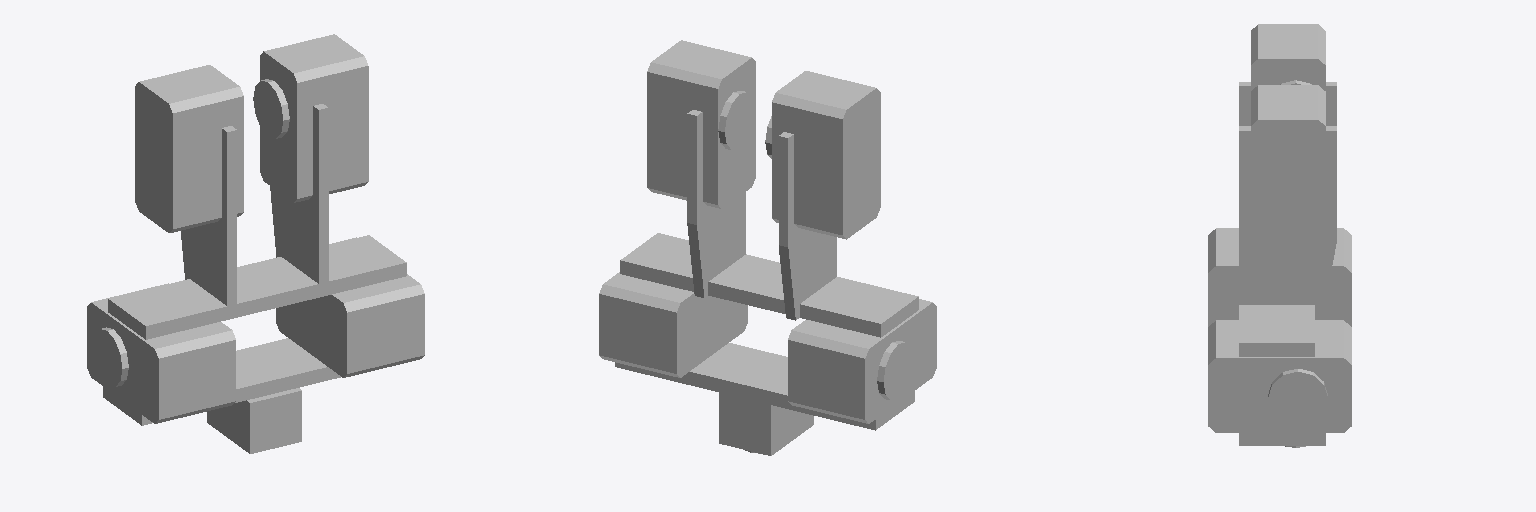
File: Body2.obj
3 renders of one model, left to right at view 1: azimuth 30°, elevation 25°; view 2: azimuth 150°, elevation 25°; view 3: azimuth 270°, elevation 25°, orthographic.
Visible parts, largest first — view 1: unnamed_object1; view 2: unnamed_object1; view 3: unnamed_object1.
Boxes of the visible parts, <box> form: unnamed_object1: <box>87,34,424,453</box>; unnamed_object1: <box>599,40,936,455</box>; unnamed_object1: <box>1208,24,1351,447</box>.
Size of the model in its own units: 21.4 by 26.95 by 9.5.